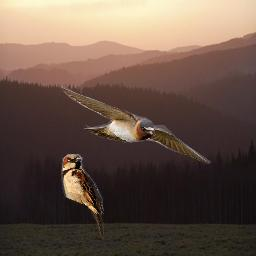Swallow: (55, 83, 211, 164), (61, 154, 104, 238)
